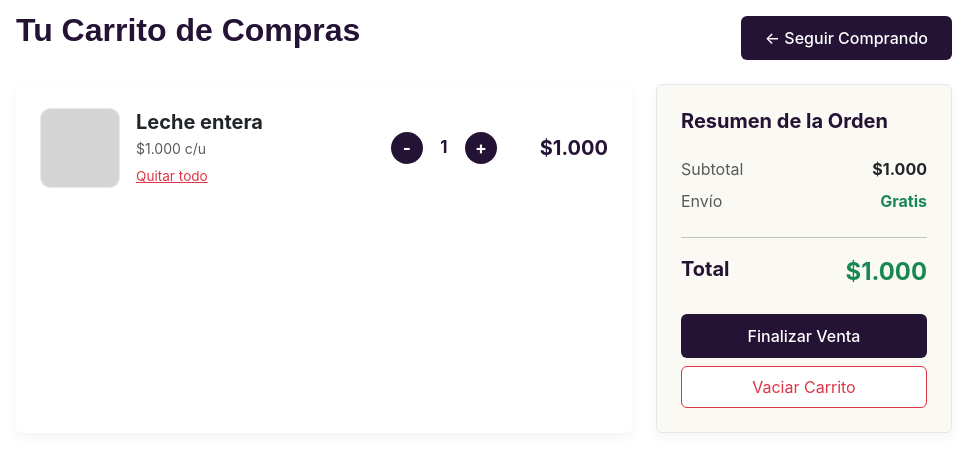
Test: Pruebas unitarias para Carrito de Compras › aumenta la cantidad de un producto y actualiza localStorage y evento global
Click the button named "Sumar una unidad": [481, 148] box [465,132,497,164]
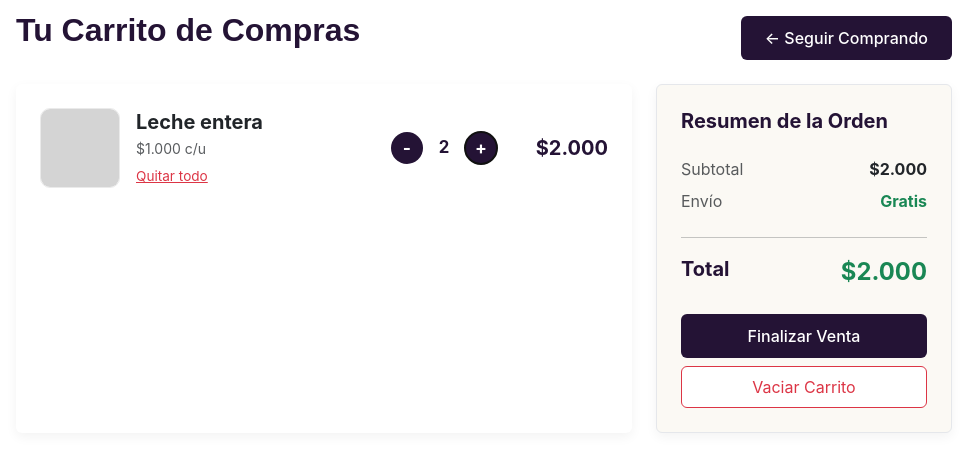
expect the text "2" is shown: met, box [439,137,449,157]
expect the text "$2.000" in the row of "c/u" is shown: met, box [536,136,608,160]
